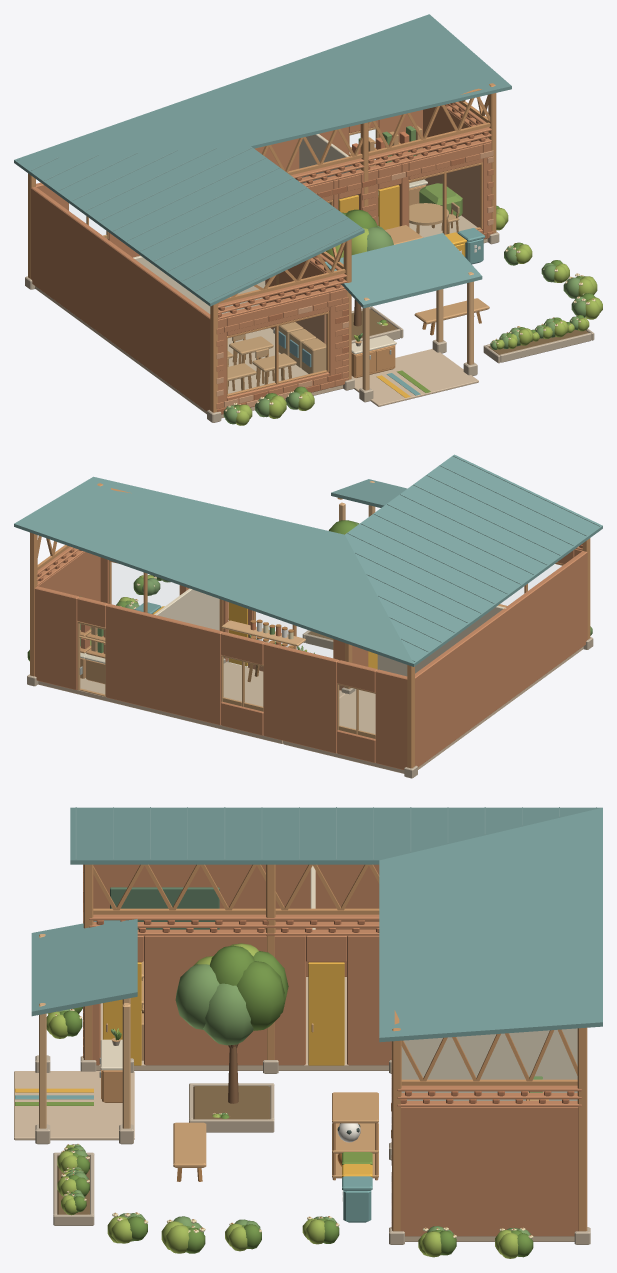
File: 28-B-e43260d05fee.glb
3 renders of one model, top to bottom at view 1: azimuth 30°, elevation 25°; view 2: azimuth 150°, elevation 25°; view 3: azimuth 270°, elevation 25°, orthographic. The views are drawn at different scales.
Visible parts, largest first — view 1: R 西翼青绿单坡屋顶, A 砖砌教室墙, R 北翼折转屋面, R 入口低雨棚, L 地被与灌丛, A 陶砖通风过梁, D 错缝面砖, I 桌椅 · 木工与软垫, S 门廊通行垫, A 廊柱, R 西翼压缝, L 花池 (+19 smaller); view 2: R 北翼折转屋面, A 北侧外墙与后门, R 西翼青绿单坡屋顶, A 砖砌教室墙, A 教室隔墙, S 后排教室地面, R 西翼压缝, A 廊柱, S 教室翼地坪, R 入口低雨棚, D 后窗, I 器皿、食品与书籍 (+8 smaller); view 3: A 砖砌教室墙, R 北翼折转屋面, R 西翼青绿单坡屋顶, L 乔木 · 枝干与树冠, L 地被与灌丛, R 入口低雨棚, A 陶砖通风过梁, A 教室隔墙, A 廊柱, S 门廊通行垫, D 教室金黄门扇, L 花池 (+14 smaller).
Boxes of the visible parts, left/top/right/bottom form: R 西翼青绿单坡屋顶: left=14, top=146, right=364, bottom=306; A 砖砌教室墙: left=31, top=105, right=491, bottom=414; R 北翼折转屋面: left=14, top=14, right=511, bottom=159; R 入口低雨棚: left=325, top=233, right=482, bottom=308; L 地被与灌丛: left=223, top=205, right=602, bottom=425; A 陶砖通风过梁: left=218, top=102, right=491, bottom=319; D 错缝面砖: left=216, top=150, right=493, bottom=413; I 桌椅 · 木工与软垫: left=227, top=202, right=489, bottom=393; S 门廊通行垫: left=351, top=349, right=478, bottom=406; A 廊柱: left=28, top=83, right=496, bottom=412; R 西翼压缝: left=17, top=147, right=361, bottom=301; L 花池: left=351, top=306, right=594, bottom=363; R 北翼折转屋面: left=14, top=476, right=413, bottom=666; A 北侧外墙与后门: left=34, top=586, right=407, bottom=769; R 西翼青绿单坡屋顶: left=345, top=454, right=602, bottom=666; A 砖砌教室墙: left=38, top=549, right=587, bottom=767; A 教室隔墙: left=154, top=588, right=506, bottom=676; S 后排教室地面: left=38, top=662, right=345, bottom=743; R 西翼压缝: left=347, top=455, right=599, bottom=661; A 廊柱: left=30, top=483, right=590, bottom=768; S 教室翼地坪: left=283, top=646, right=583, bottom=773; R 入口低雨棚: left=331, top=479, right=407, bottom=507; D 后窗: left=221, top=655, right=375, bottom=738; I 器皿、食品与书籍: left=79, top=596, right=293, bottom=653; A 砖砌教室墙: left=92, top=864, right=578, bottom=1236; R 北翼折转屋面: left=379, top=807, right=602, bottom=1042; R 西翼青绿单坡屋顶: left=70, top=807, right=601, bottom=864; L 乔木 · 枝干与树冠: left=175, top=943, right=288, bottom=1103; L 地被与灌丛: left=46, top=1007, right=533, bottom=1258; R 入口低雨棚: left=31, top=919, right=137, bottom=1016; A 陶砖通风过梁: left=89, top=914, right=581, bottom=1106; A 教室隔墙: left=310, top=865, right=577, bottom=1100; A 廊柱: left=83, top=864, right=587, bottom=1231; S 门廊通行垫: left=14, top=1071, right=134, bottom=1140; D 教室金黄门扇: left=103, top=962, right=344, bottom=1065; L 花池: left=53, top=1083, right=274, bottom=1225.
Bounding box in the file's own units: 22.5 × 8.41 × 19.61.
